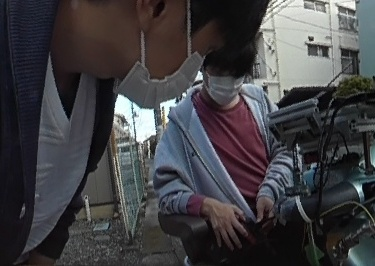person: (157, 37, 307, 238)
